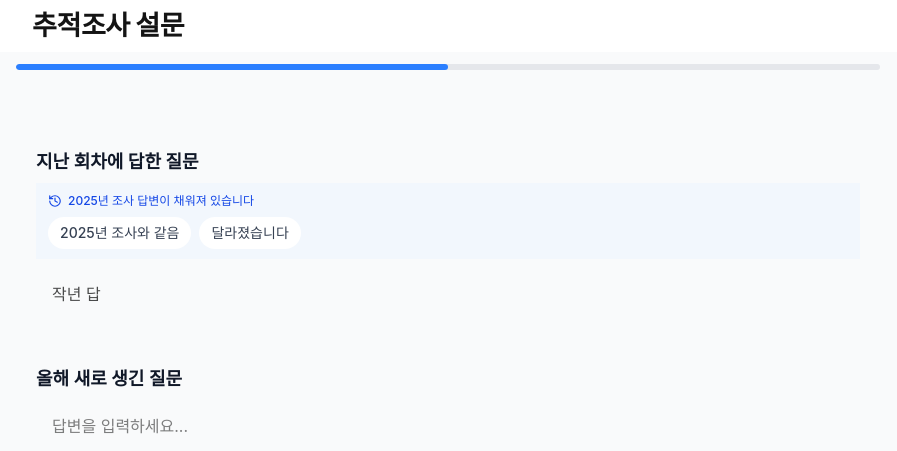
Test: 이월 값 잠금과 복사 › "달라짐"에서 고친 뒤 "같음"으로 되돌리면 이월 값으로 돌아간다
Expected: the text "지난 회차에 답한 질문" is shown, [32,150,203,175]
Click the radio button labelled "달라졌습니다": x=250, y=233 [200,217,301,249]
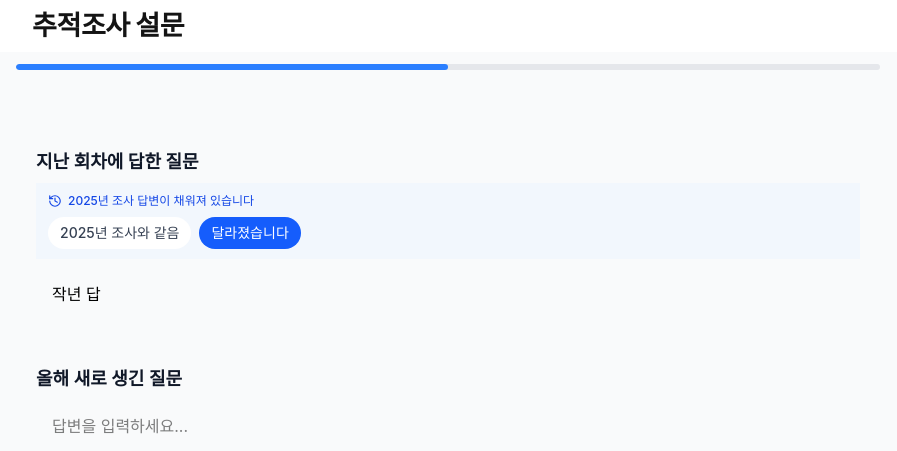
Replace the text in the 1st field with "올해 답": x=448, y=293 [40,275,856,311]
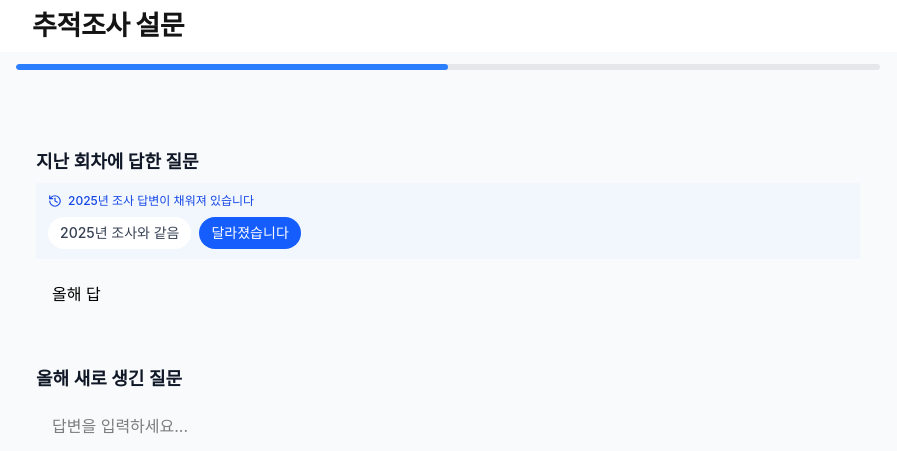
Click the radio button labelled "2025년 조사와 같음": x=120, y=233 [48,217,192,249]
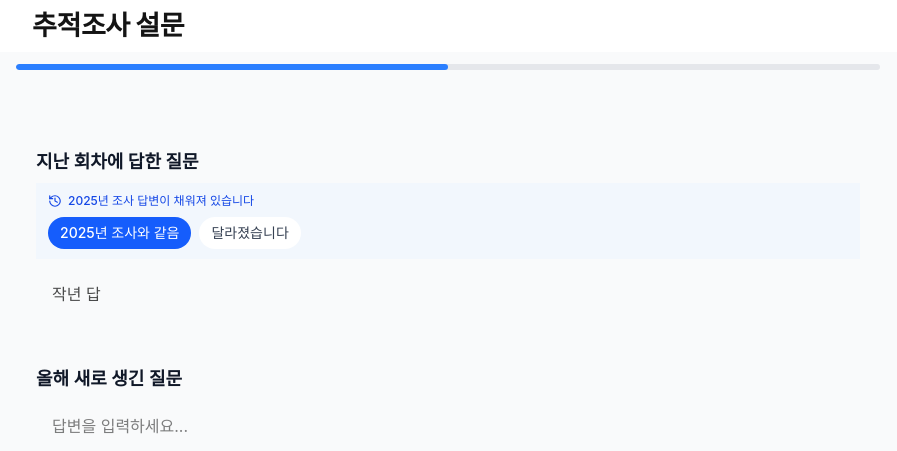
Result: the 1st field holds "작년 답" at [40,275,856,311]
